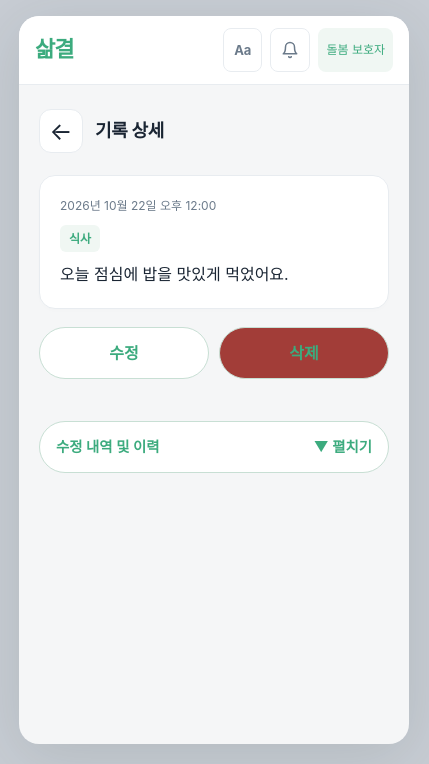
Test: 수정 모드에서 취소 버튼 클릭 시 수정이 취소되고 원래 내용이 유지된다
This screenshot has width=429, height=764.
Click the button "수정" at [124, 353], box left=39, top=327, right=209, bottom=379
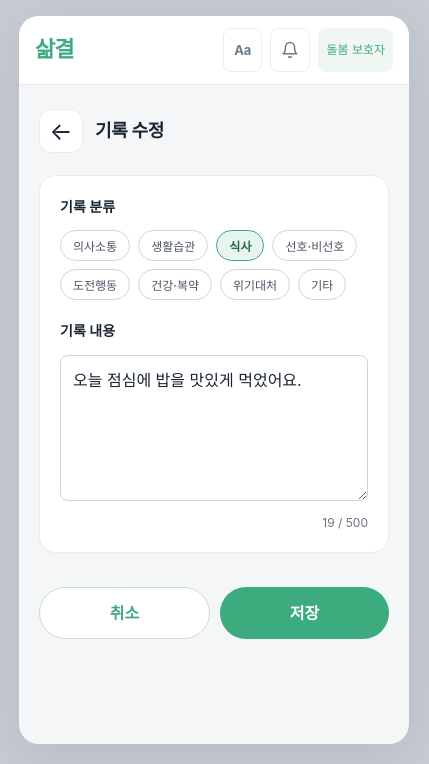
Replace the text in the text box named "기록 내용 수정" with "취소할 내용" at [214, 428], box left=60, top=355, right=368, bottom=501
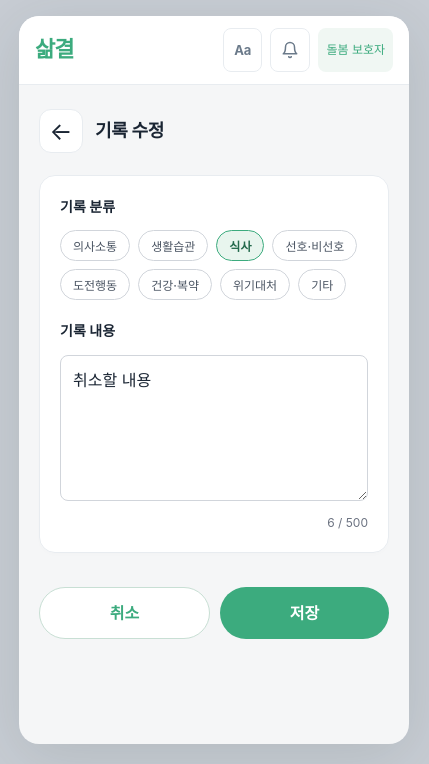
Click the button "취소" at [124, 613], box left=39, top=587, right=210, bottom=639
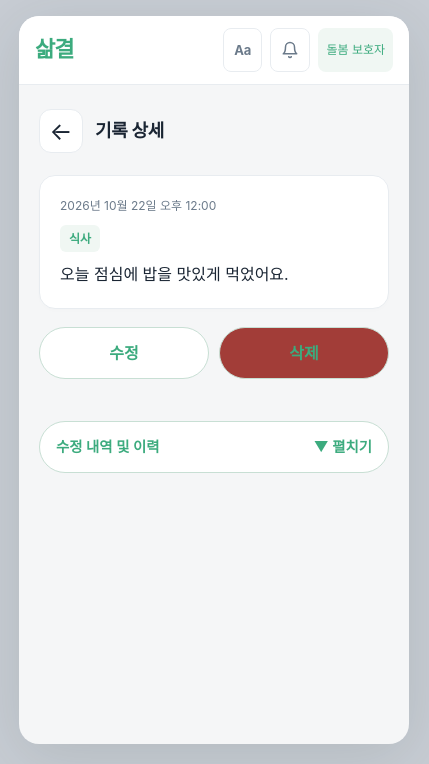
Expected: the text "취소할 내용" is not shown
Expected: the heading "기록 상세" is shown, left=95, top=119, right=164, bottom=143
Expected: the text "오늘 점심에 밥을 맛있게 먹었어요." is shown, left=60, top=264, right=289, bottom=284
